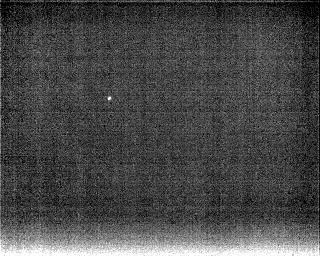BIRD: (106, 94, 114, 103)
